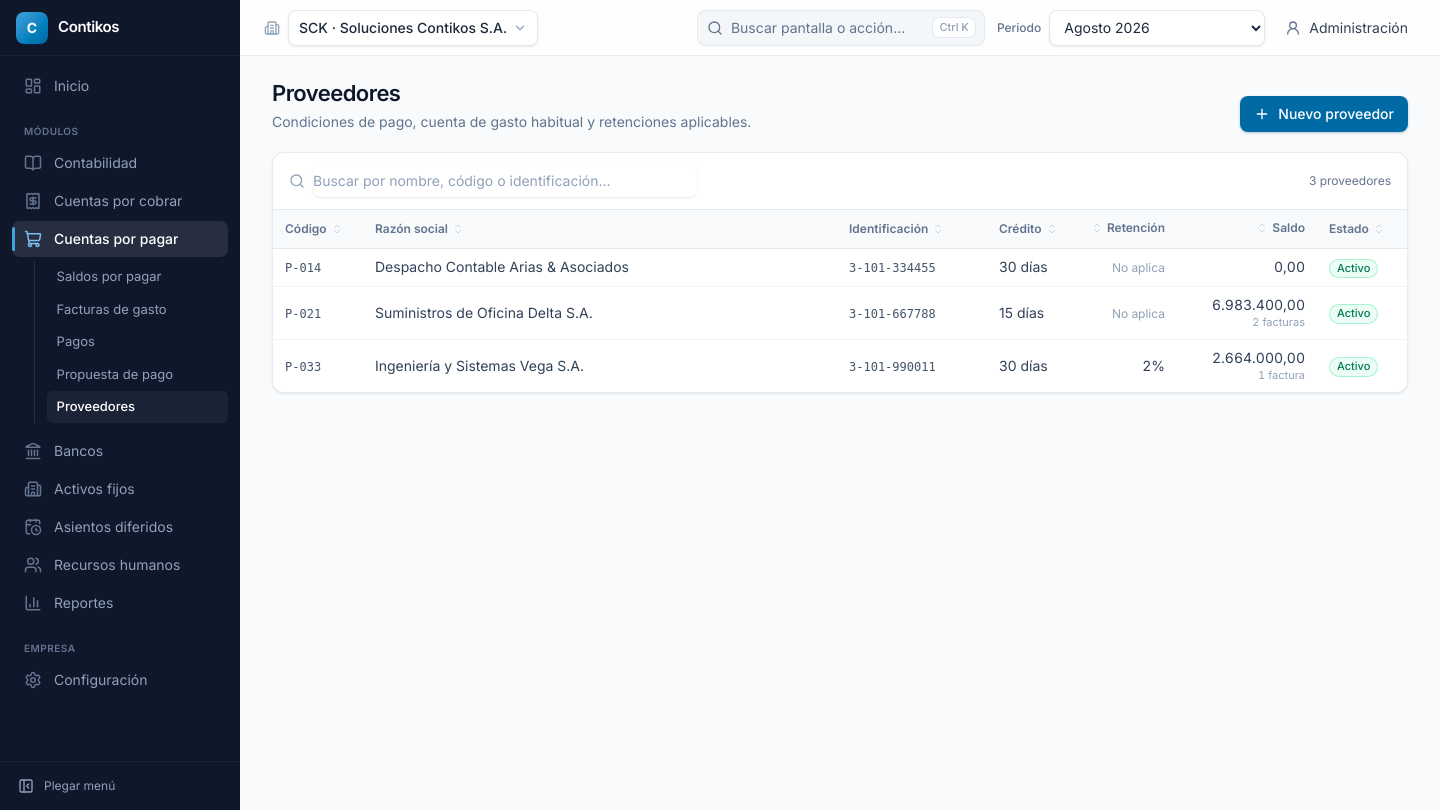
Scenario: Directorio de terceros del grupo › al dar de alta un proveedor, toma la identidad de otra empresa y fija aquí sus condiciones
Check: the text "Suministros de Oficina Delta S.A." is shown, box [363,287,837,339]
Click the button "Nuevo proveedor" at [1324, 114], box [1240,96,1408,132]
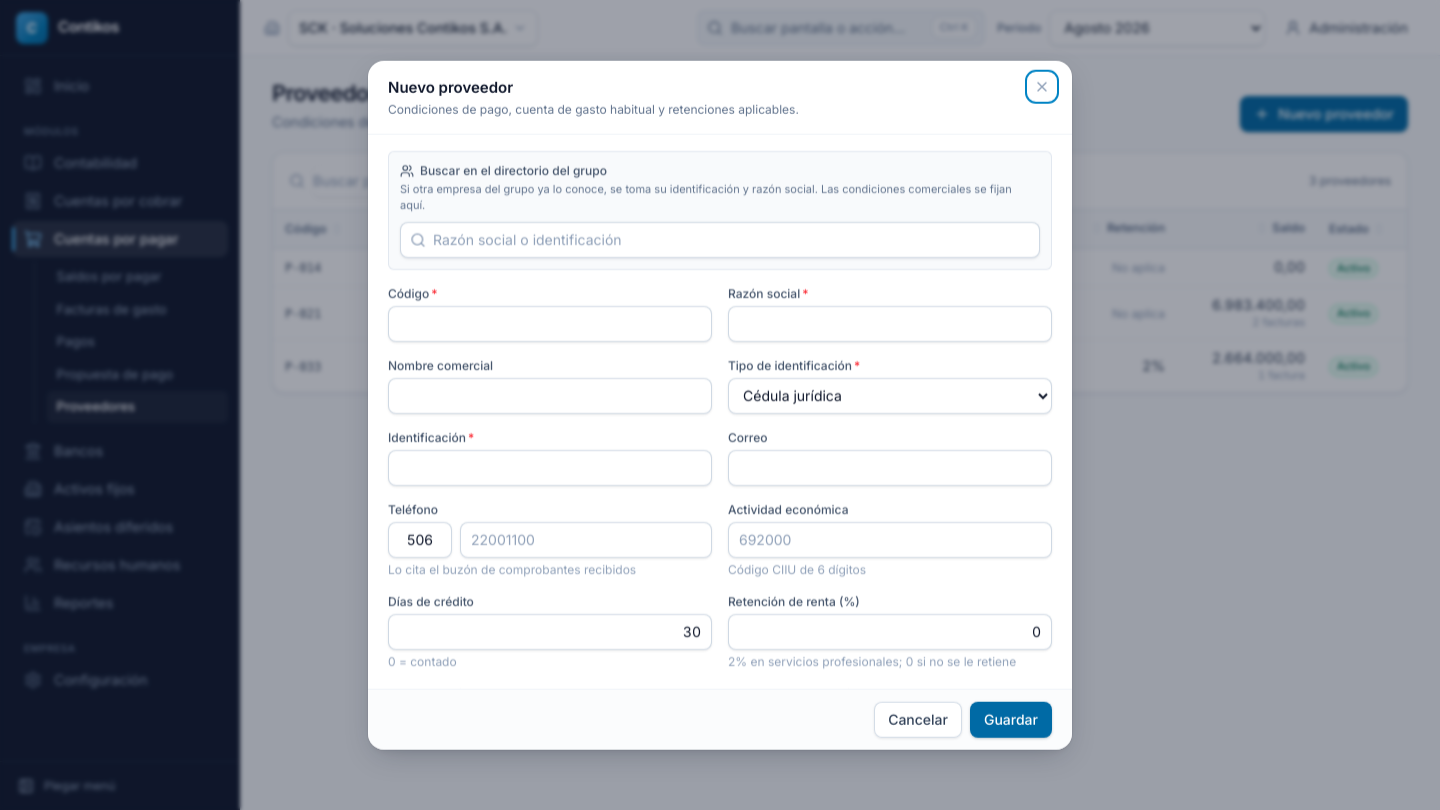
Type "transportes" into the field labelled "Buscar en el directorio del grupo" at [720, 239], box [400,221,1040,257]
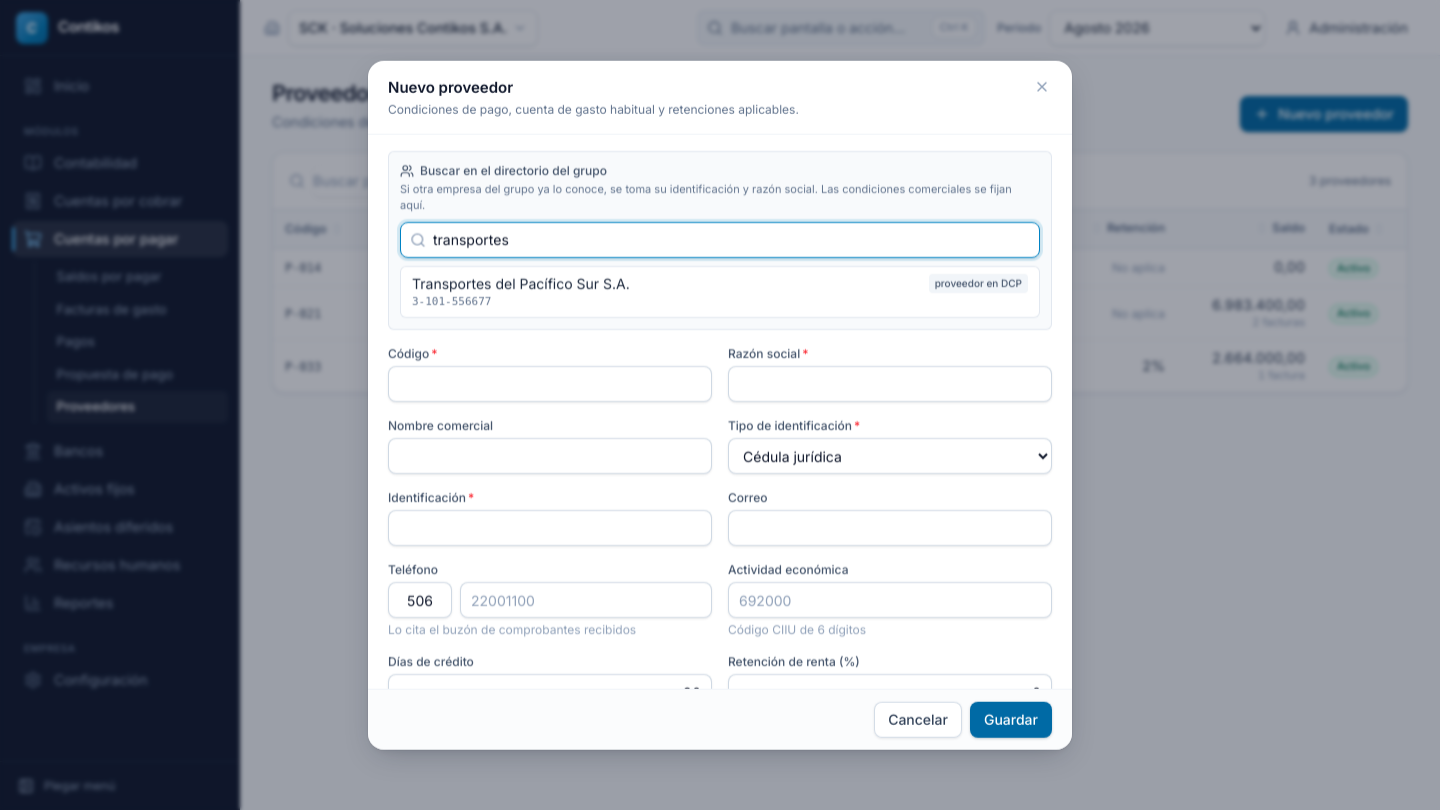
Check: the text "proveedor en DCP" is shown, box [929,273,1028,292]
Click the button with aria-label "tomar la identidad de transportes del pacífico sur" at [521, 283], box [400,265,1040,318]
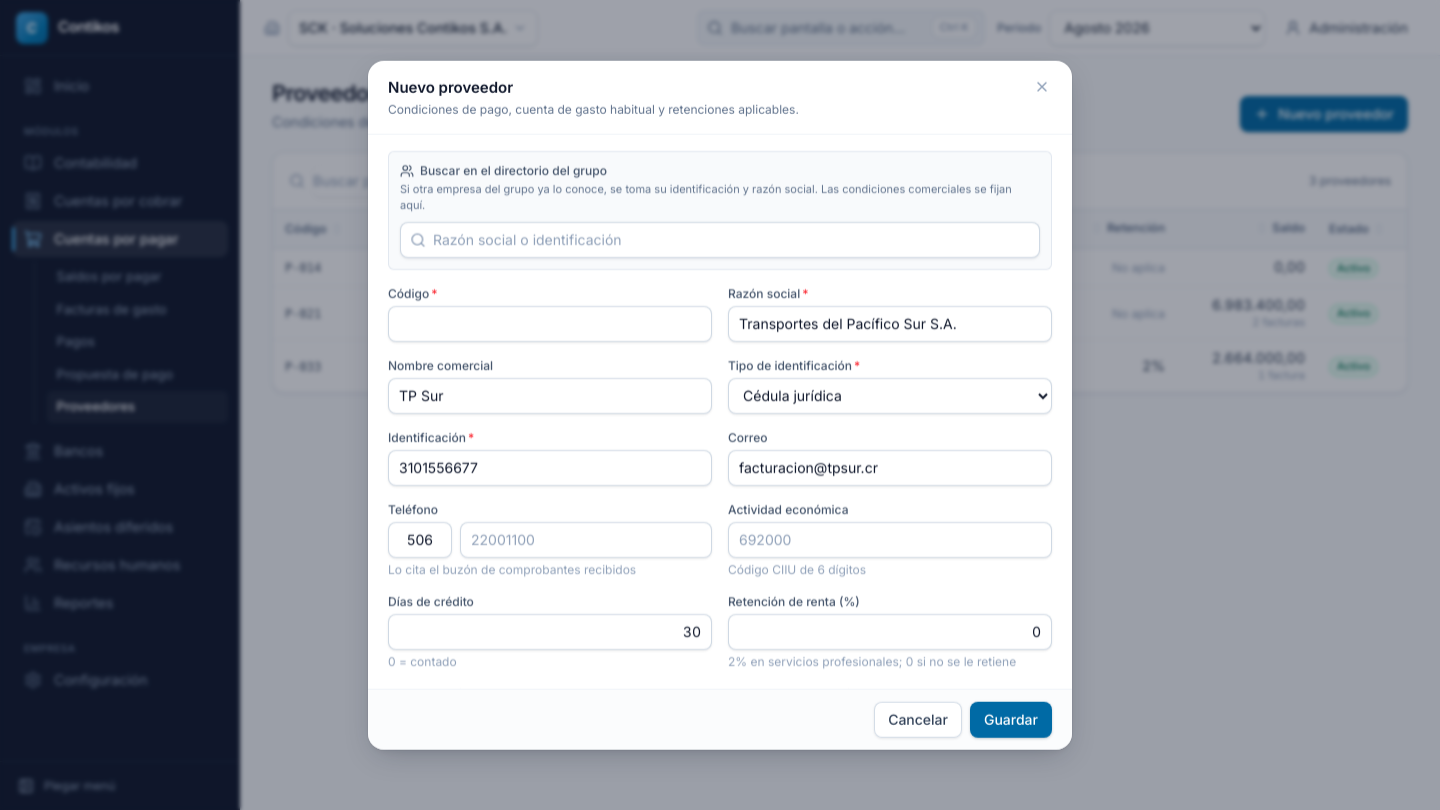
Check: the field labelled "Identificación*" holds "3101556677", box [388,449,712,485]
Check: the field labelled "Razón social*" holds "Transportes del Pacífico Sur S.A.", box [728,305,1052,341]
Type "P-050" into the field labelled "Código*" at [550, 323], box [388,305,712,341]
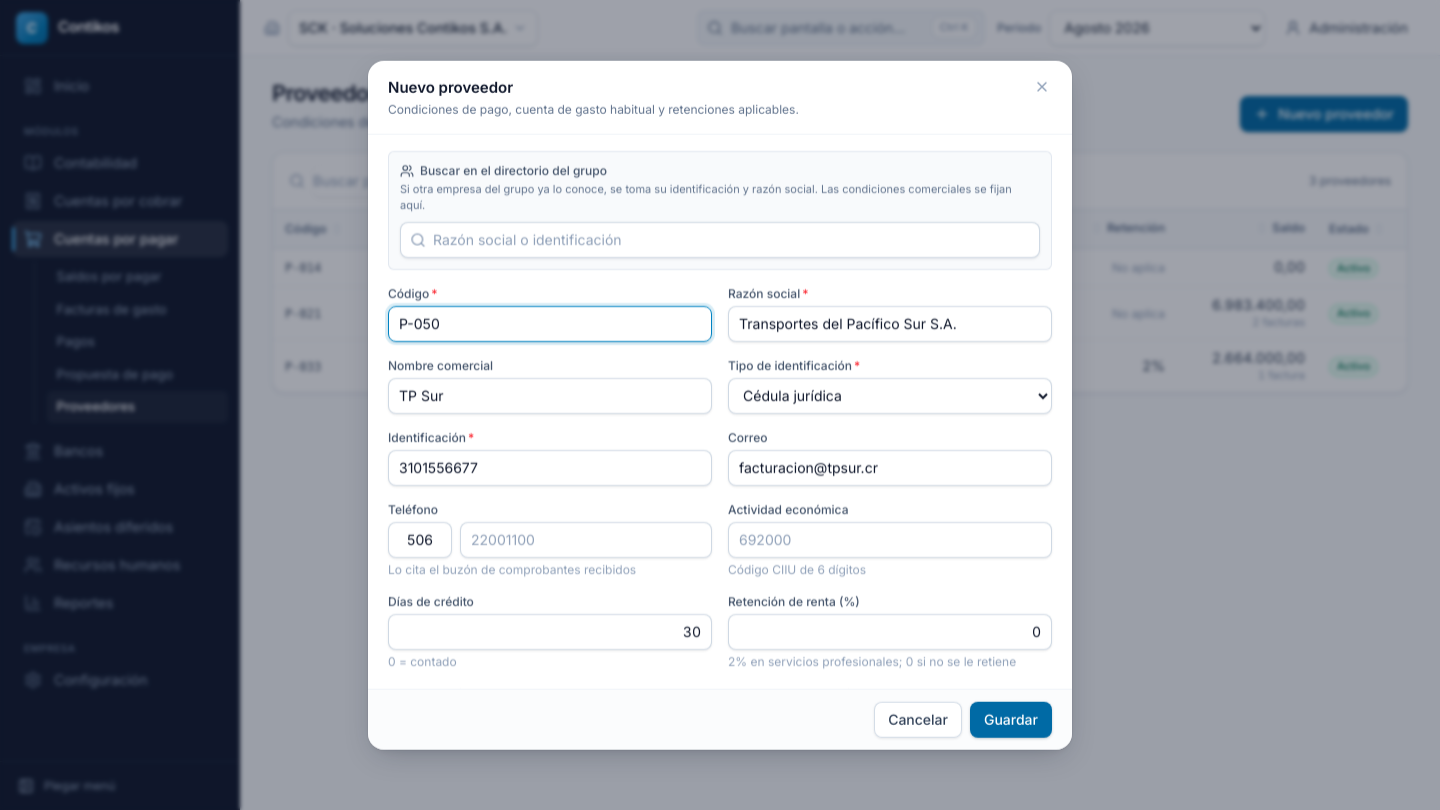
Click the button "Guardar" at [1011, 719], box [970,701,1052,737]
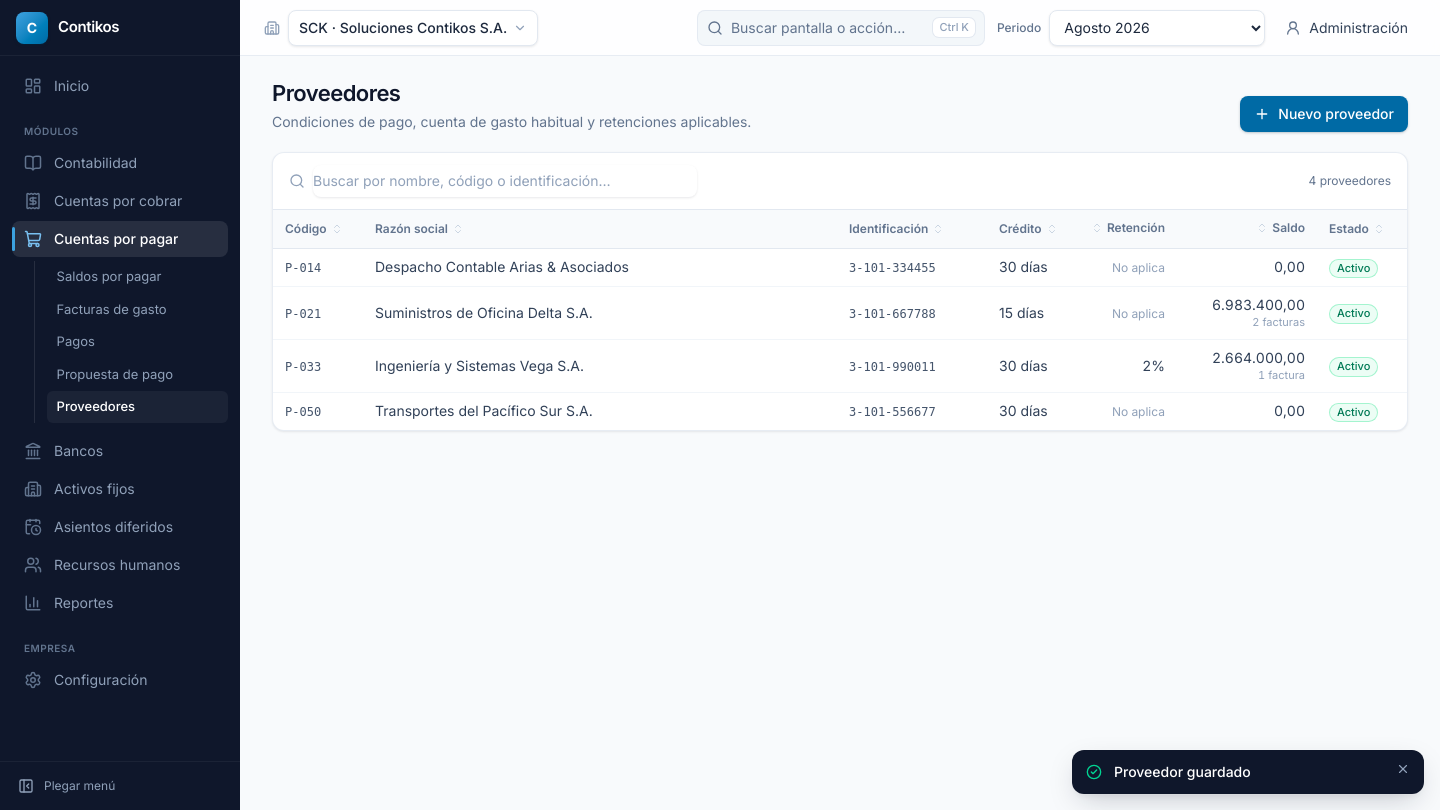
Check: the dialog is gone
Check: the text "Transportes del Pacífico Sur S.A." is shown, box [363,392,837,430]
